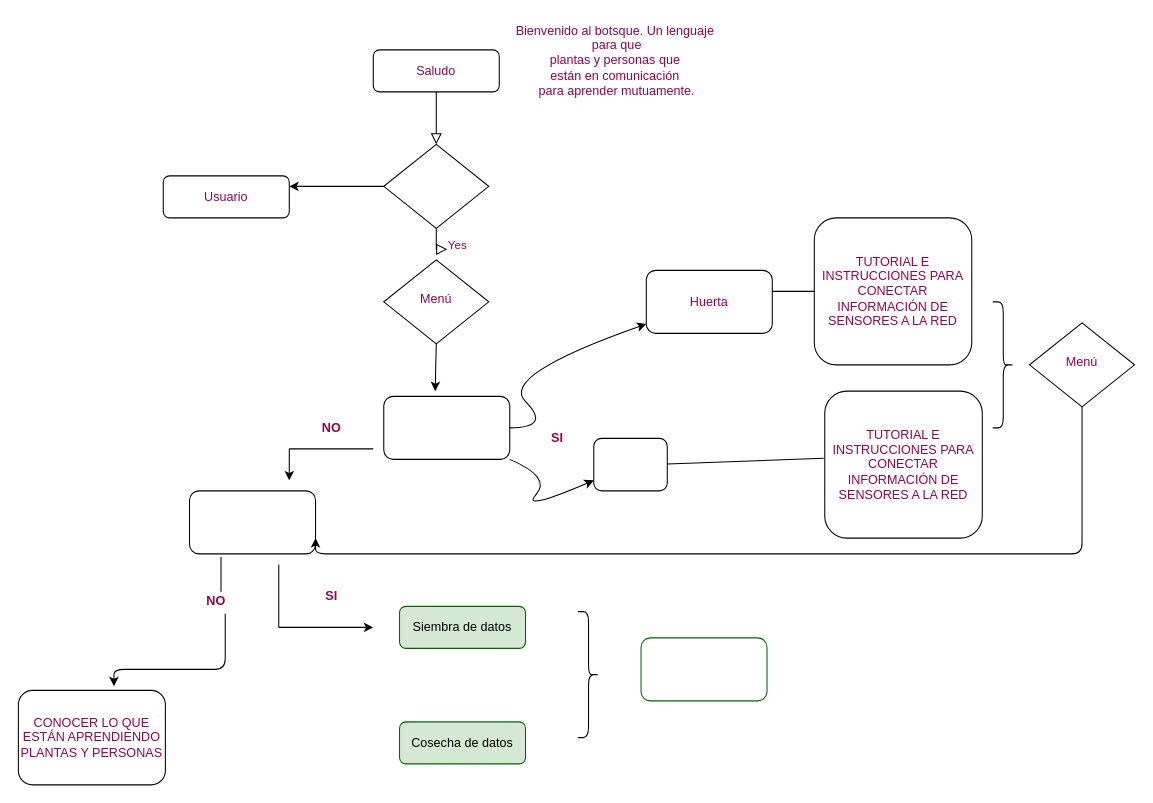
This 1153x803 diagram has some shape labels left out. Here are the shapes that lost their labels. From the top down, the box of each, then its label:
(383, 143, 489, 228): Nickname
(383, 395, 510, 459): CONECTARTE
(593, 437, 667, 491): Plantas
(188, 490, 316, 554): HABLAR SOBRE PLANTAS Y LO QUE TE HAN ENSEÑADO
(640, 637, 767, 701): Servidora Feminista
